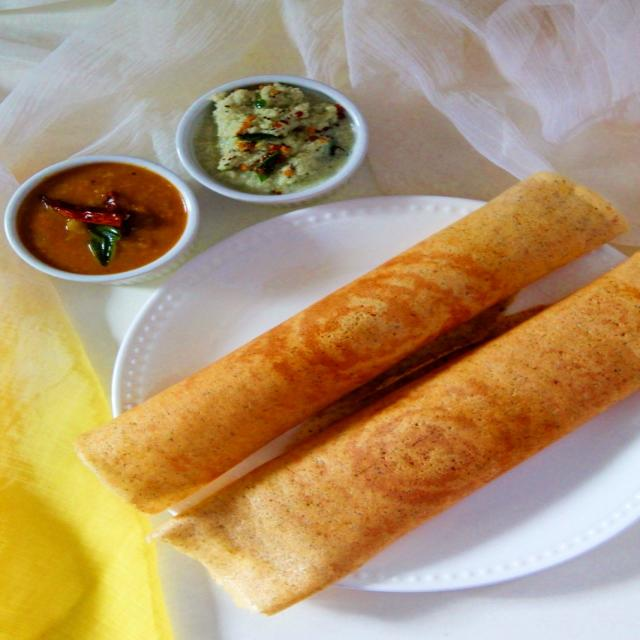Wet Waste: (76, 174, 629, 512), (170, 281, 639, 599), (177, 86, 360, 190)
